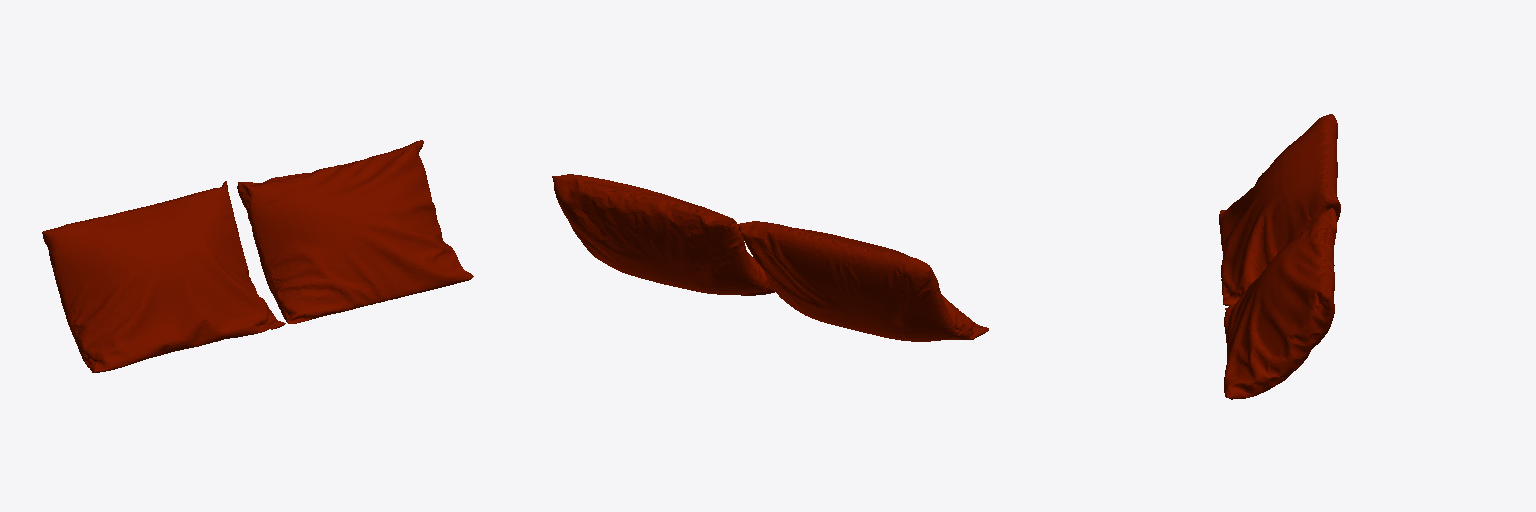
The model's file is Pillow_Obj.obj.
3 renders of one model, left to right at view 1: azimuth 30°, elevation 25°; view 2: azimuth 150°, elevation 25°; view 3: azimuth 270°, elevation 25°, orthographic.
Parts seen in each view (by area): view 1: Pillow; view 2: Pillow; view 3: Pillow.
Boxes of the visible parts, box(x1,y1,x2,y2) form: Pillow: box(42, 140, 473, 372); Pillow: box(552, 174, 988, 341); Pillow: box(1219, 114, 1340, 399).
Bounding box in the file's own units: 1103 × 301 × 305.